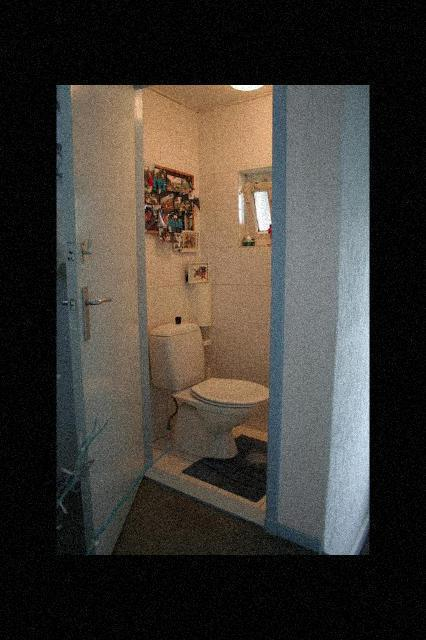Sanitario: (149, 314, 279, 474)
